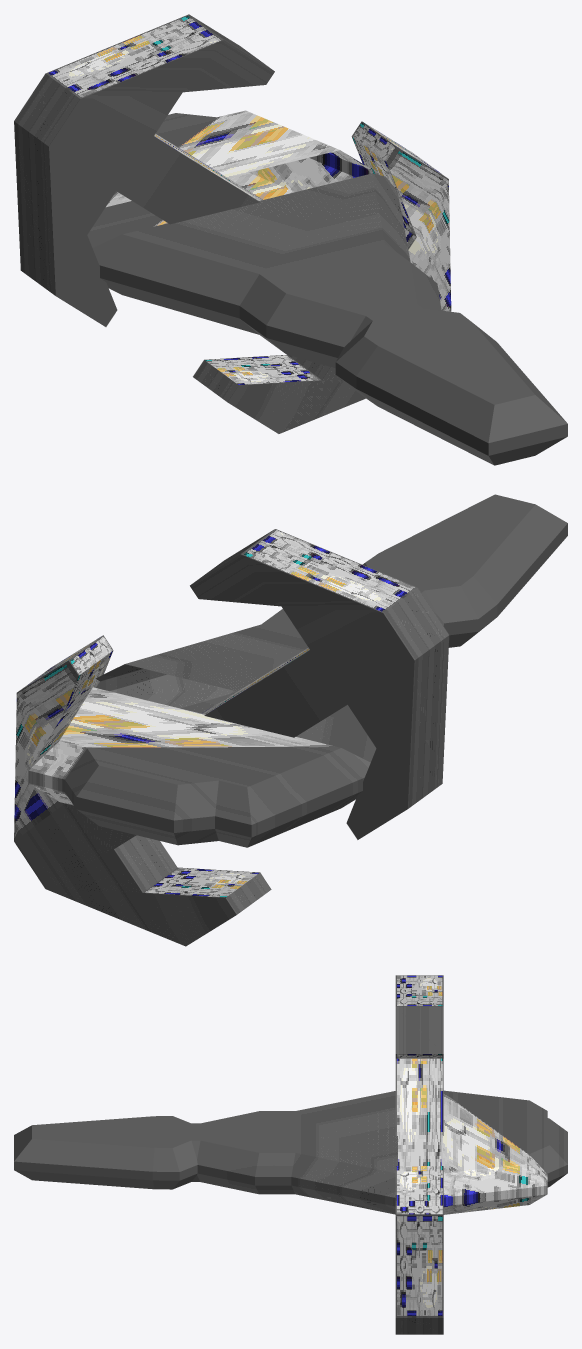
The model's file is aliensh2.obj.
The picture shows the model from 3 angles, top to bottom: view 1: azimuth 30°, elevation 25°; view 2: azimuth 150°, elevation 25°; view 3: azimuth 270°, elevation 25°; orthographic projection. The views are drawn at different scales.
Bounding box in the file's own units: 1.37 × 1.32 × 2.38.
Materials: 1 (1 with a texture image).
